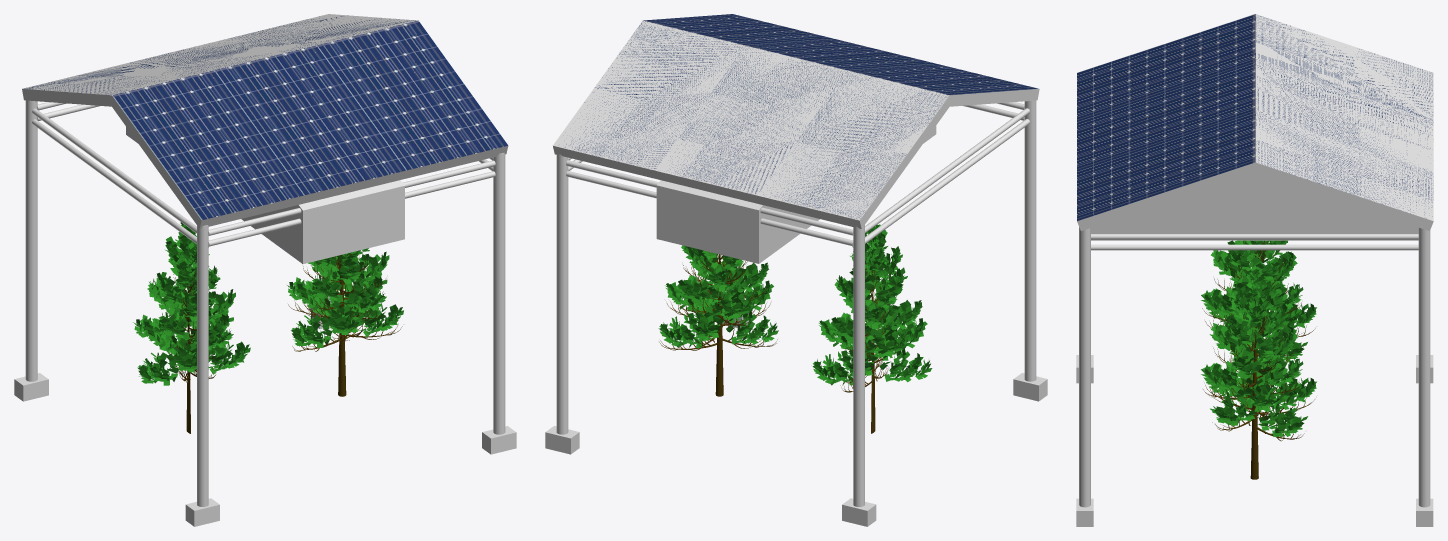
Rendered from agiSolar2Trees.glb.
3 views of the same model, side by side, from view 1: azimuth 30°, elevation 25°; view 2: azimuth 150°, elevation 25°; view 3: azimuth 270°, elevation 25° (orthographic).
Visible parts, largest first — view 1: Cube.004, Cube.006, Cube.003, leaves.003, Cube.001, leaves.004, Cube.002, Cylinder.002, Cylinder, Cylinder.004, Cube.005, Cube.007 (+9 smaller); view 2: Cube.002, Cube.007, Cube.005, leaves.003, Cube.001, leaves.004, Cube.004, Cylinder.003, Cylinder.004, Cylinder, Cube.003, Cube.006 (+9 smaller); view 3: Cube.001, Cube.003, Cube.005, leaves.004, Cube.004, Cube.007, Cube.002, Cube.006, leaves.003, Cylinder.003, Cylinder.002, Cylinder.013 (+5 smaller).
Part boxes in pixels (x1=…): Cube.004: x1=112, y1=70, x2=303, y2=228; Cube.006: x1=214, y1=45, x2=406, y2=203; Cube.003: x1=316, y1=20, x2=508, y2=178; leaves.003: x1=133, y1=222, x2=250, y2=385; Cube.001: x1=126, y1=127, x2=404, y2=263; leaves.004: x1=287, y1=248, x2=403, y2=347; Cube.002: x1=22, y1=64, x2=213, y2=106; Cylinder.002: x1=493, y1=152, x2=505, y2=434; Cylinder: x1=25, y1=100, x2=37, y2=381; Cylinder.004: x1=197, y1=225, x2=208, y2=506; Cube.005: x1=227, y1=14, x2=418, y2=45; Cube.007: x1=124, y1=39, x2=315, y2=70; Cube.002: x1=757, y1=70, x2=951, y2=228; Cube.007: x1=655, y1=45, x2=846, y2=203; Cube.005: x1=553, y1=20, x2=744, y2=178; leaves.003: x1=812, y1=224, x2=932, y2=385; Cube.001: x1=656, y1=126, x2=936, y2=263; leaves.004: x1=658, y1=245, x2=778, y2=347; Cube.004: x1=847, y1=64, x2=1039, y2=106; Cylinder.003: x1=556, y1=154, x2=568, y2=434; Cylinder.004: x1=1024, y1=100, x2=1036, y2=381; Cylinder: x1=853, y1=225, x2=864, y2=506; Cube.003: x1=643, y1=14, x2=833, y2=45; Cube.006: x1=745, y1=39, x2=936, y2=70; Cube.001: x1=1091, y1=173, x2=1418, y2=240; Cube.003: x1=1077, y1=113, x2=1258, y2=230; Cube.005: x1=1252, y1=113, x2=1433, y2=231; leaves.004: x1=1201, y1=266, x2=1316, y2=437; Cube.004: x1=1077, y1=14, x2=1255, y2=121; Cube.007: x1=1255, y1=63, x2=1433, y2=171; Cube.002: x1=1255, y1=14, x2=1433, y2=121; Cube.006: x1=1077, y1=63, x2=1255, y2=171; leaves.003: x1=1201, y1=240, x2=1316, y2=362; Cylinder.003: x1=1418, y1=228, x2=1430, y2=507; Cylinder.002: x1=1079, y1=227, x2=1090, y2=507; Cylinder.013: x1=1091, y1=244, x2=1418, y2=250.
Size of the model in its own units: 3.15 by 3.4 by 3.05.
14 materials, 5 textured.
